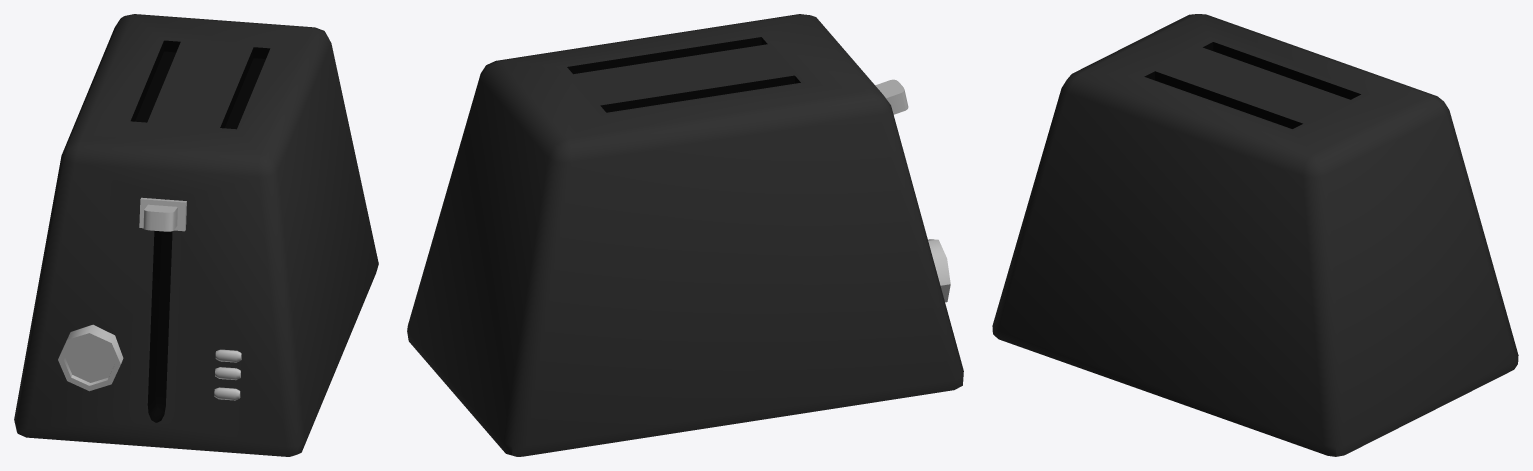
Rendered from Toaster.fbx.
The picture shows the model from 3 angles, left to right: view 1: azimuth 30°, elevation 25°; view 2: azimuth 150°, elevation 25°; view 3: azimuth 270°, elevation 25°; orthographic projection. The views are drawn at different scales.
Parts seen in each view (by area): view 1: Cube.027; view 2: Cube.027; view 3: Cube.027.
Boxes of the visible parts, bbox=[...] form: Cube.027: bbox=[14, 14, 378, 456]; Cube.027: bbox=[407, 14, 963, 456]; Cube.027: bbox=[992, 14, 1518, 456].
Bounding box in the file's own units: 30.44 × 18 × 31.66.
2 materials, 1 textured.
